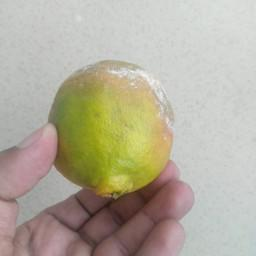Bad_orange: (48, 56, 175, 196)
